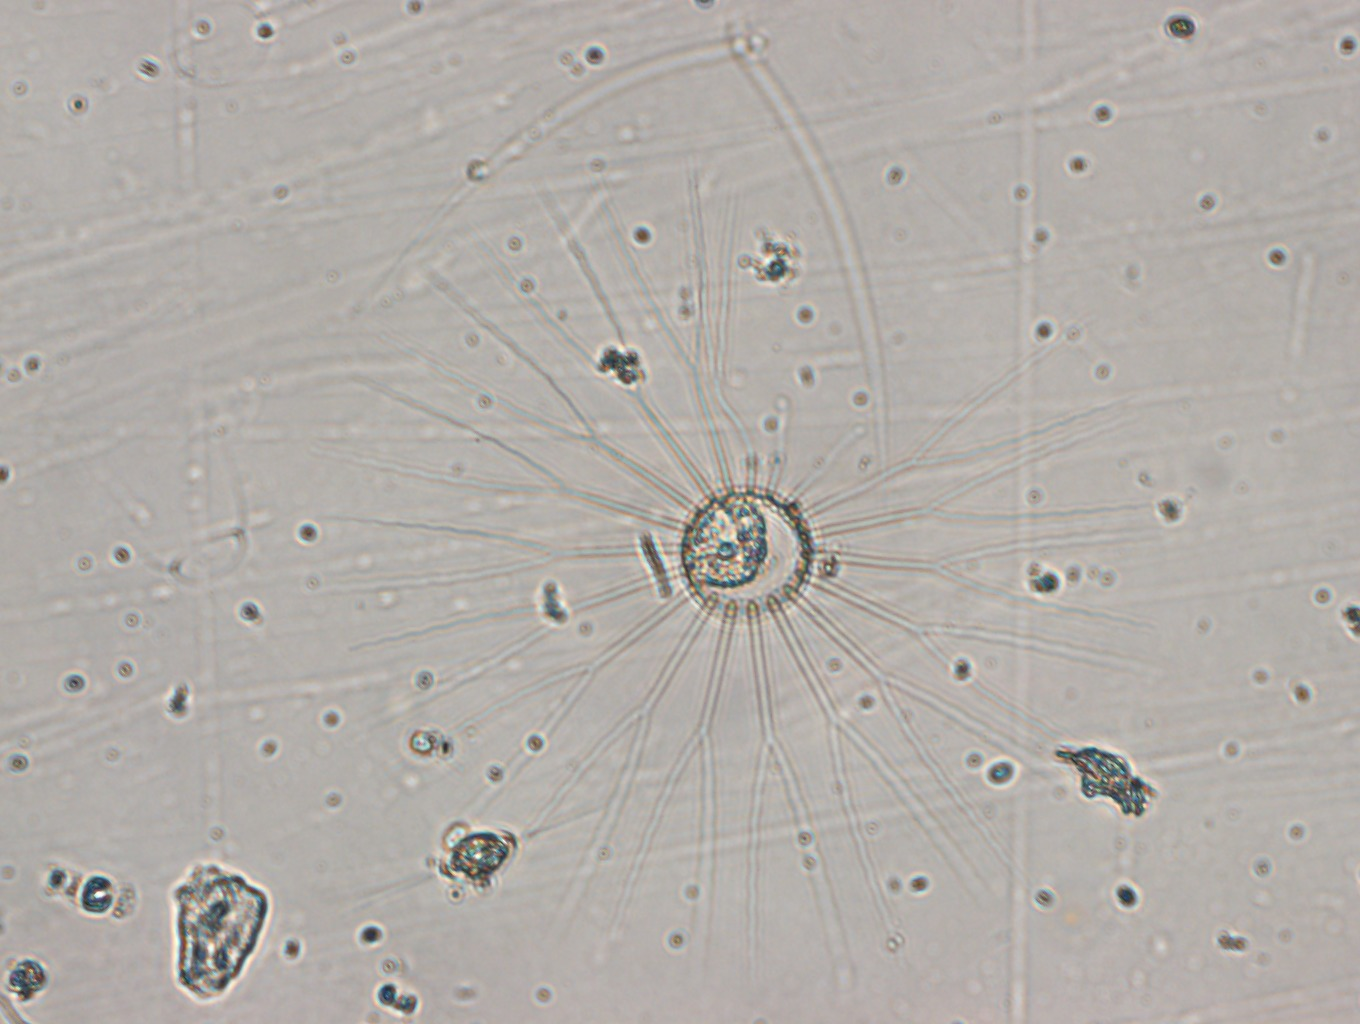bacteriastrum: (332, 176, 1161, 975)
